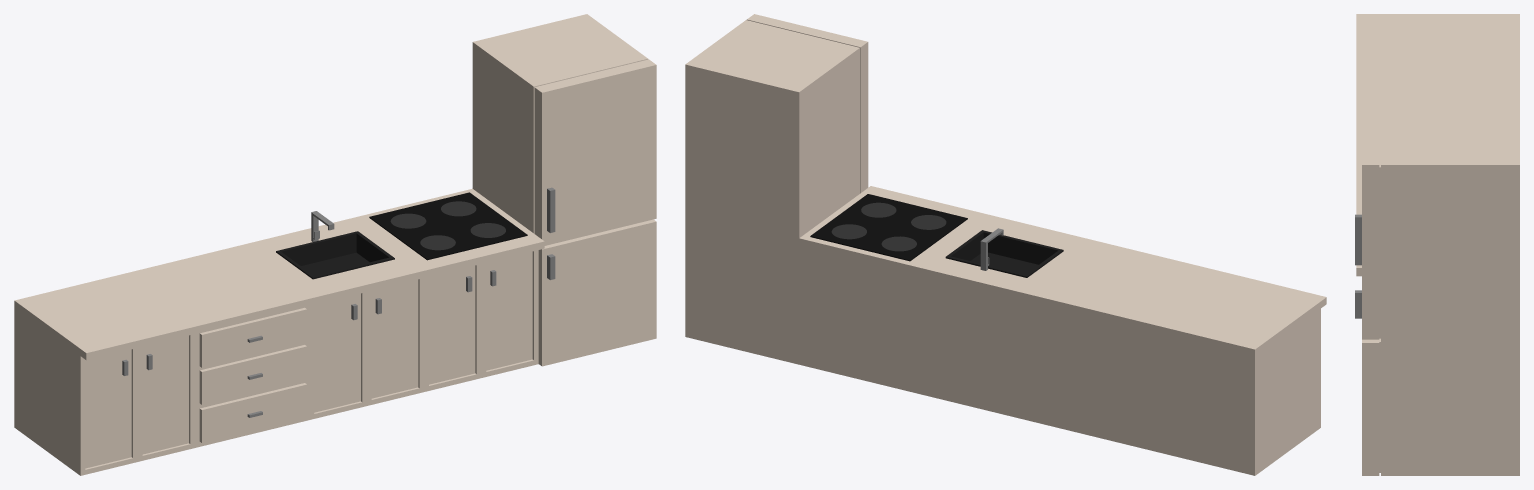
The model's file is furniture_ground.glb.
The picture shows the model from 3 angles, left to right: view 1: azimuth 30°, elevation 25°; view 2: azimuth 150°, elevation 25°; view 3: azimuth 270°, elevation 25°; orthographic projection. The views are drawn at different scales.
Parts seen in each view (by area): view 1: Fridge, Counter, CounterSink, CounterDrawers, CounterStove; view 2: Fridge, Counter, CounterStove, CounterDrawers, CounterSink; view 3: Fridge, Counter, CounterDrawers, CounterSink.
Boxes of the visible parts, box(x1,y1,x2,y2) form: Fridge: box(472, 14, 656, 366); Counter: box(14, 272, 200, 475); CounterSink: box(244, 211, 429, 419); CounterDrawers: box(129, 244, 315, 447); CounterStove: box(358, 188, 544, 391); Fridge: box(685, 14, 868, 364); Counter: box(1141, 269, 1326, 475); CounterStove: box(799, 186, 984, 392); CounterDrawers: box(1027, 241, 1212, 447); CounterSink: box(913, 214, 1098, 420); Fridge: box(1355, 101, 1519, 475); Counter: box(1356, 14, 1519, 77); CounterDrawers: box(1356, 77, 1519, 140); CounterSink: box(1356, 141, 1361, 204).
Bounding box in the file's own units: 5 × 2.28 × 1.1.
